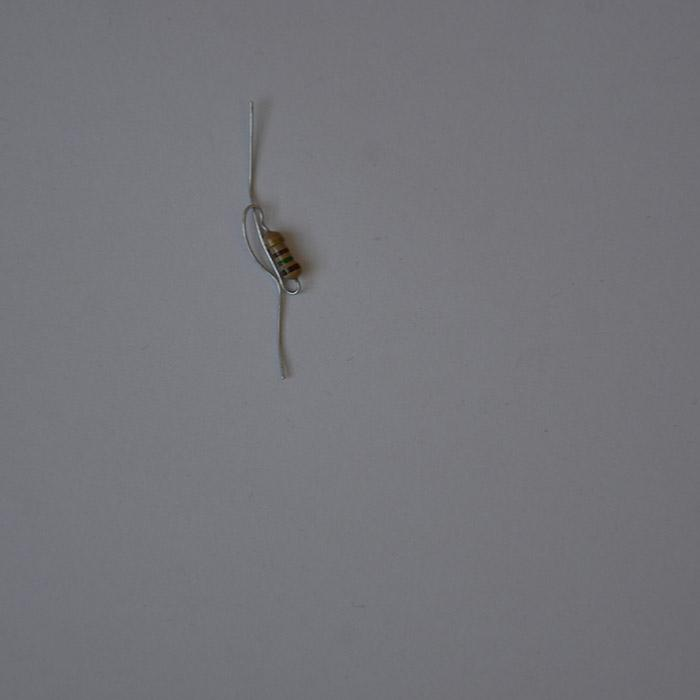resistor: (262, 230, 300, 280)
